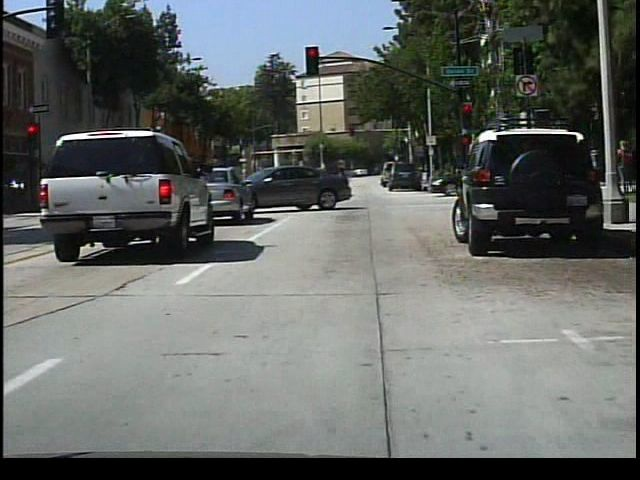person: (329, 159, 354, 200), (615, 137, 631, 192), (456, 150, 473, 188)
